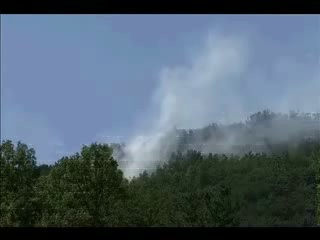smoke: (181, 29, 318, 159), (111, 67, 185, 183)
